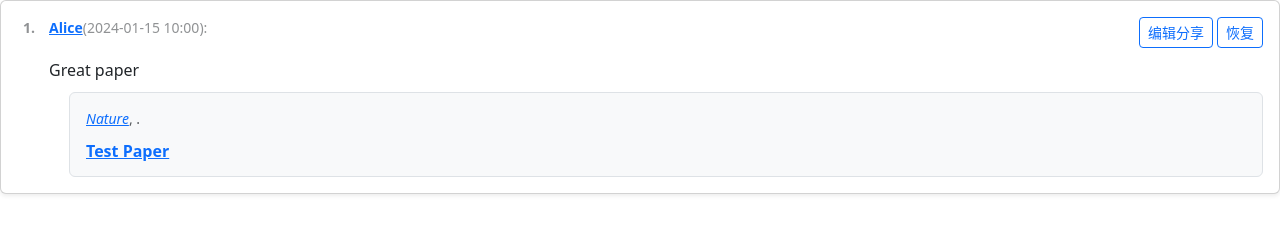
it: ReviewCard delete + restore › surfaces the backend error when the API returns success:false
Click the button "恢复" at (1240, 32), box 1217,17 -> 1263,48
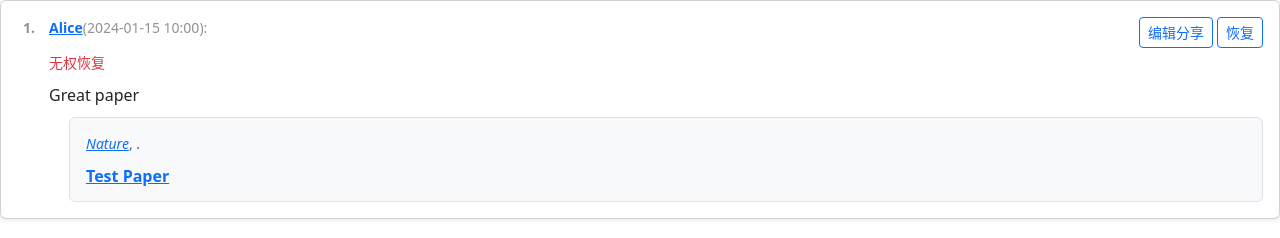
Now the text "无权恢复" is shown, box 49,53 -> 105,72
